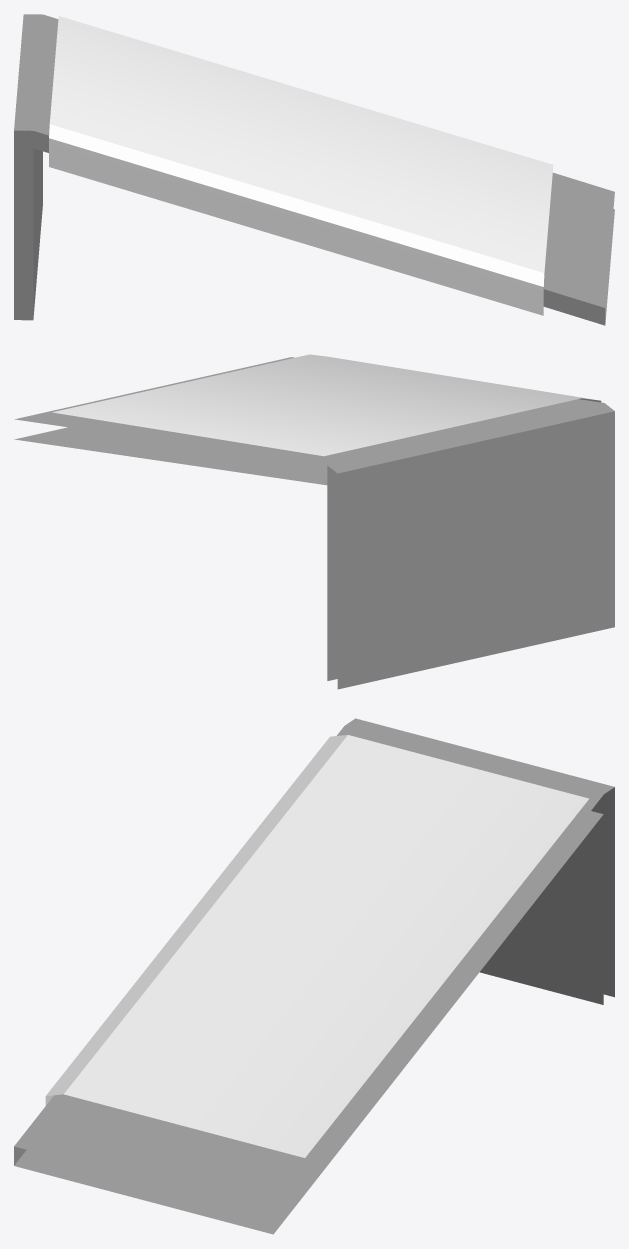
File: Mesh_GrattoirChat.fbx
The picture shows the model from 3 angles, top to bottom: view 1: azimuth 30°, elevation 25°; view 2: azimuth 150°, elevation 25°; view 3: azimuth 270°, elevation 25°; orthographic projection. The views are drawn at different scales.
Parts seen in each view (by area): view 1: GrattoireChat; view 2: GrattoireChat; view 3: GrattoireChat.
Part boxes in pixels (left/top/right/bottom): GrattoireChat: left=14, top=14, right=614, bottom=325; GrattoireChat: left=14, top=354, right=614, bottom=689; GrattoireChat: left=14, top=718, right=614, bottom=1234.
Size of the model in its own units: 0.3479 by 0.1122 by 0.289.
